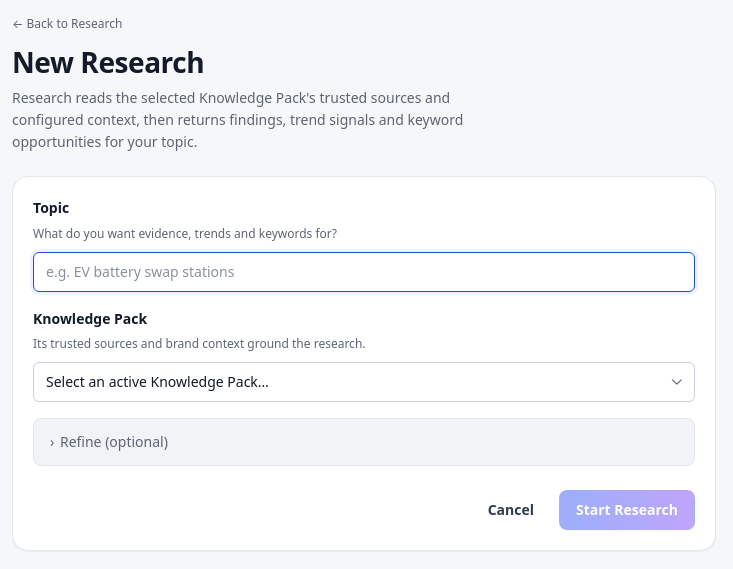
CreateResearchForm › disables submit until both topic and Knowledge Pack are set
Check: the button "Start Research" is disabled, box [559, 490, 695, 530]
Type "topic" into the field labelled "Topic" at point(364, 272), box [33, 252, 695, 292]
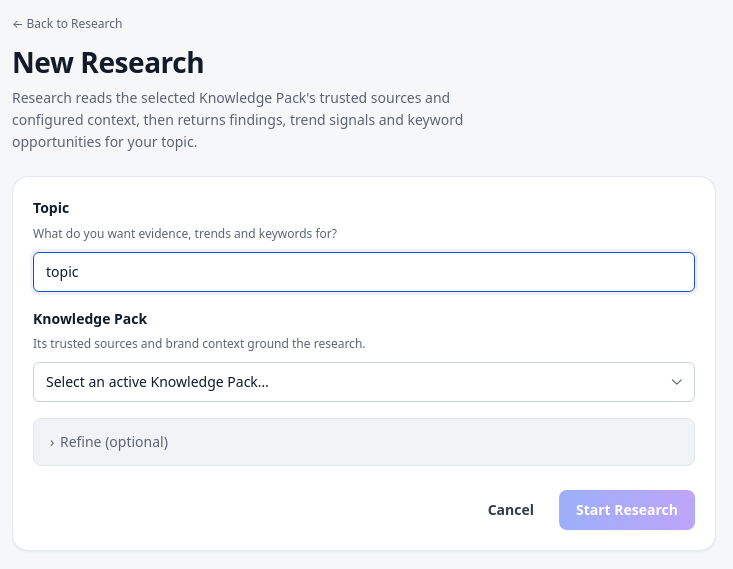
Check: the button "Start Research" is disabled, box [559, 490, 695, 530]
Select "EV Pack (v1)" in the dropdown labelled "Knowledge Pack" at point(364, 382), box [33, 362, 695, 402]
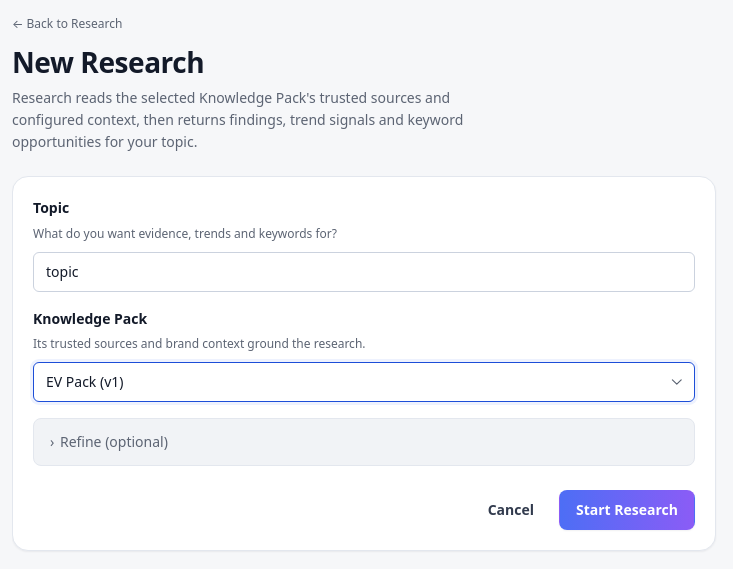
Check: the button "Start Research" is enabled, box [559, 490, 695, 530]
